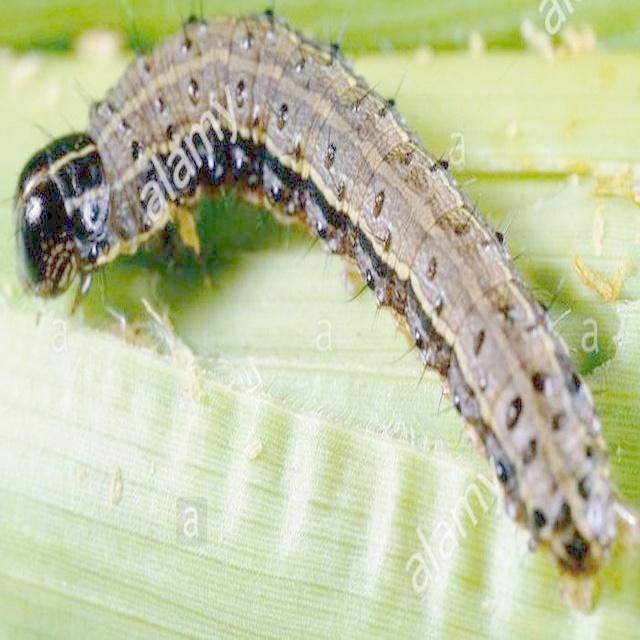gusano_cogollero: (19, 16, 614, 566)
